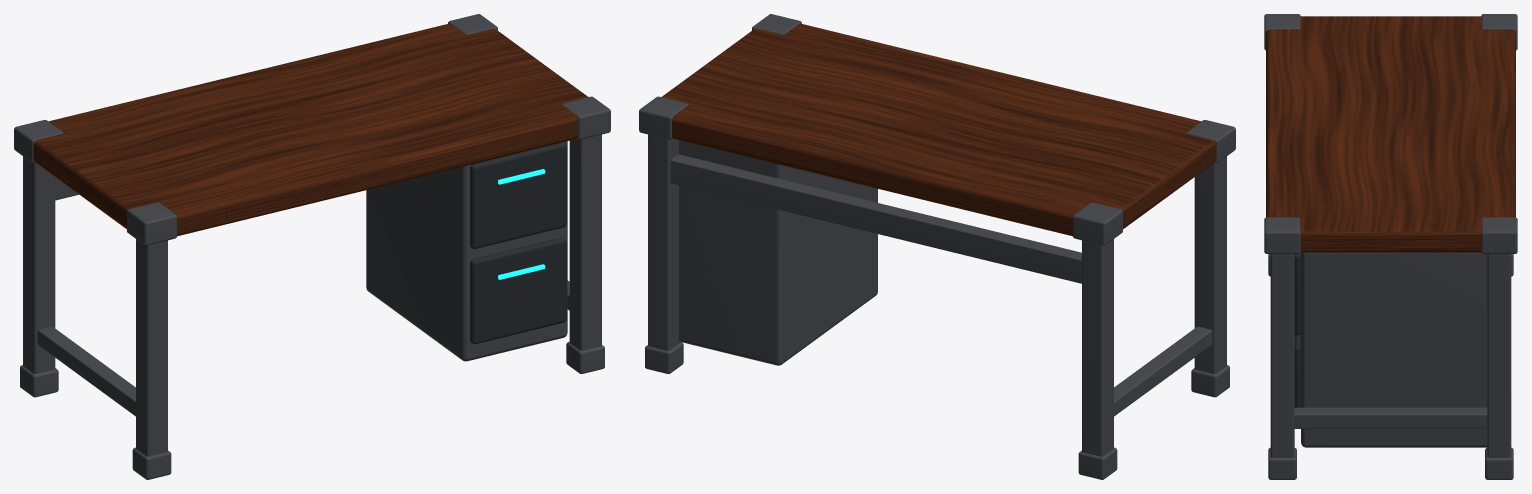
Rendered from estacoes_mesa_computador.glb.
The picture shows the model from 3 angles, left to right: view 1: azimuth 30°, elevation 25°; view 2: azimuth 150°, elevation 25°; view 3: azimuth 270°, elevation 25°; orthographic projection. The views are drawn at different scales.
Visible parts, largest first — view 1: mesa_computador; view 2: mesa_computador; view 3: mesa_computador.
Part boxes in pixels (x1,y1,x2,y2): mesa_computador: (14, 14, 610, 479); mesa_computador: (639, 14, 1235, 479); mesa_computador: (1264, 14, 1517, 479).
Size of the model in its own units: 1.41 by 0.7525 by 0.69.
4 materials, 1 textured.
